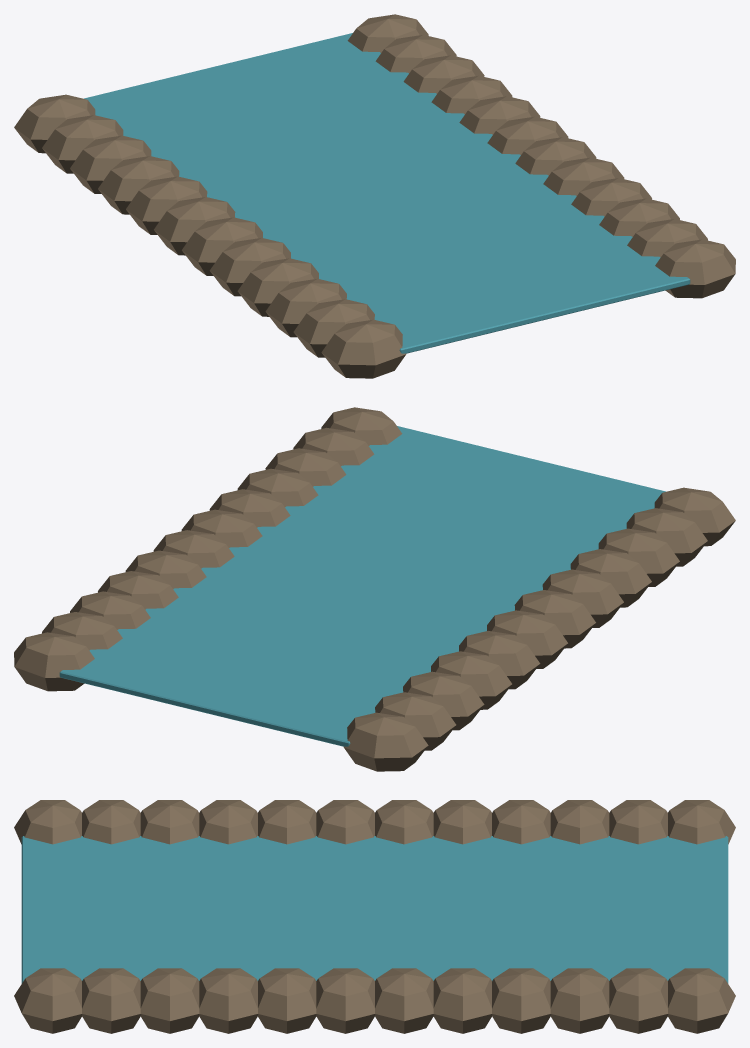
Rendered from landscape-river.lod0.glb.
The picture shows the model from 3 angles, top to bottom: view 1: azimuth 30°, elevation 25°; view 2: azimuth 150°, elevation 25°; view 3: azimuth 270°, elevation 25°; orthographic projection. The views are drawn at different scales.
Visible parts, largest first — view 1: landscape-river__body; view 2: landscape-river__body; view 3: landscape-river__body.
Boxes of the visible parts, bbox=[...] form: landscape-river__body: bbox=[14, 14, 735, 378]; landscape-river__body: bbox=[14, 407, 735, 771]; landscape-river__body: bbox=[14, 800, 735, 1033].
Bounding box in the file's own units: 4.2 × 0.5 × 6.16.
